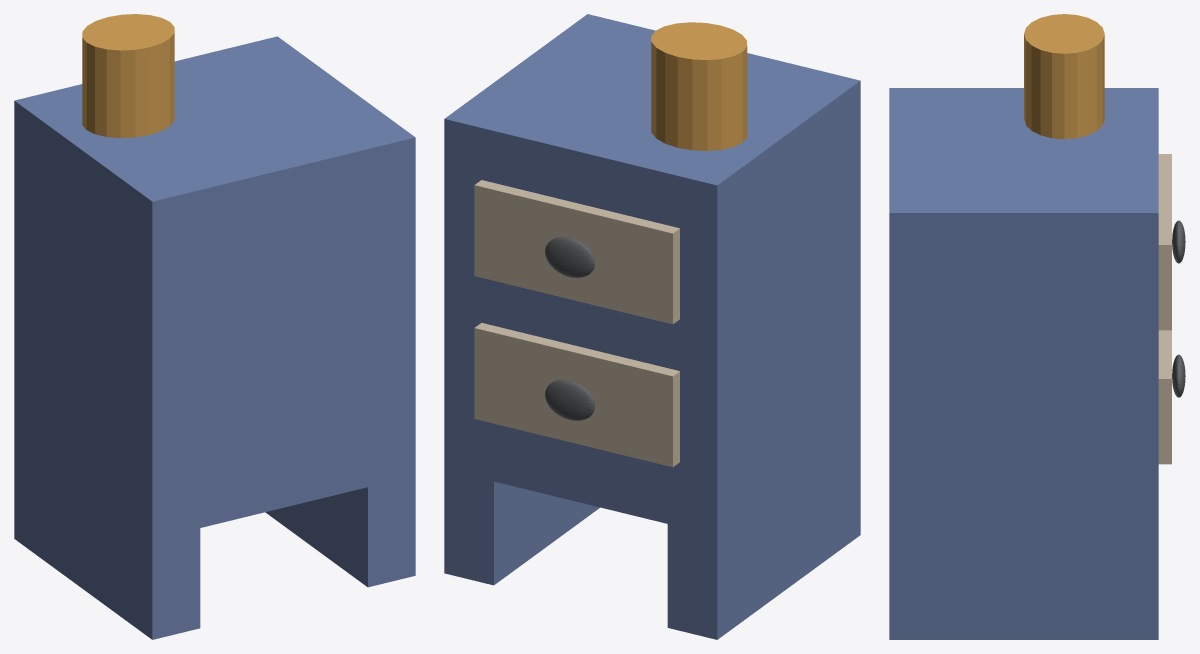
The model's file is Frantic Snaget.glb.
3 renders of one model, left to right at view 1: azimuth 30°, elevation 25°; view 2: azimuth 150°, elevation 25°; view 3: azimuth 270°, elevation 25°, orthographic. The views are drawn at different scales.
Visible parts, largest first — view 1: Mesh_Mesh_head_geo.001_lambert2SG.001; view 2: Mesh_Mesh_head_geo.001_lambert2SG.001; view 3: Mesh_Mesh_head_geo.001_lambert2SG.001.
Boxes of the visible parts, x1,y1,x2,y2 form: Mesh_Mesh_head_geo.001_lambert2SG.001: (14,14,415,639); Mesh_Mesh_head_geo.001_lambert2SG.001: (444,14,860,639); Mesh_Mesh_head_geo.001_lambert2SG.001: (889,14,1185,639).
Size of the model in its own units: 22 by 42 by 22.
